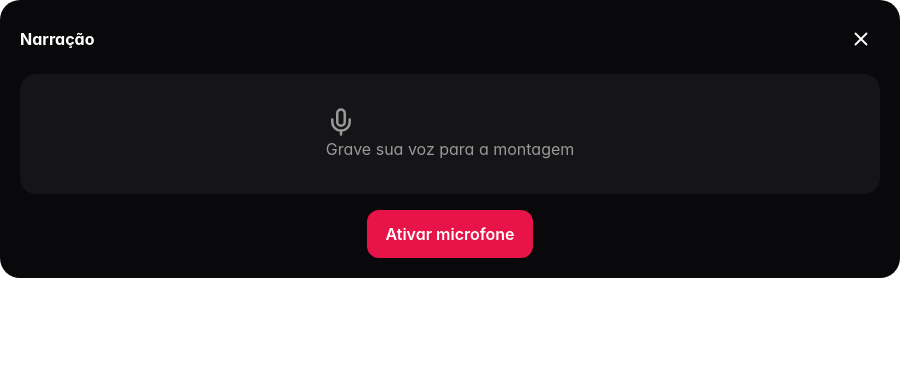
it: StudioRecorder com lifecycle React real › ocultar a aba cancela a pergunta; o trecho interrompido continua disponível para salvar
Later steps or results of the test are not shown.
Click the button "Ativar microfone": (450, 234) [368,210,532,258]
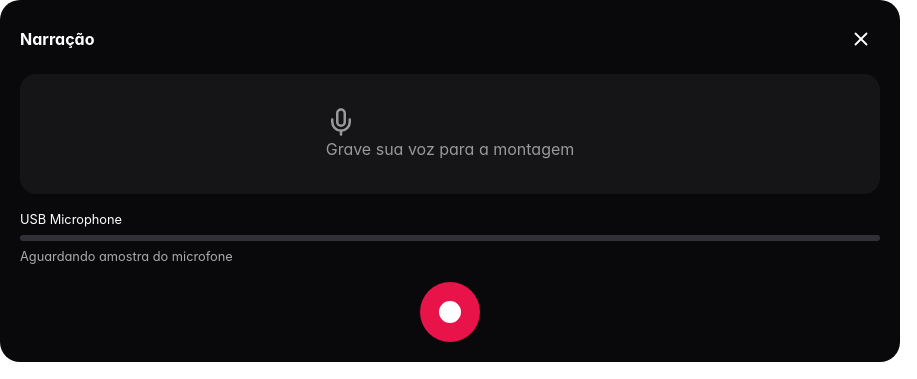
Click the button named "Iniciar gravação": (450, 312) [420,282,480,342]
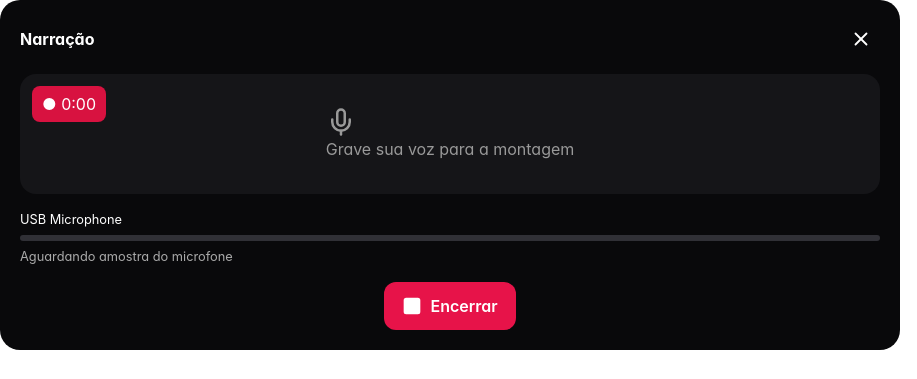
Click the button named "Fechar gravação": (861, 39) [842,20,880,58]
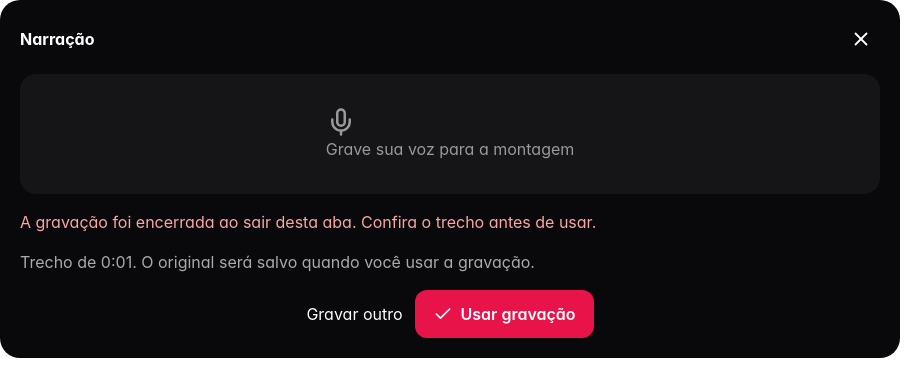
Check: the button "Usar gravação" is shown, box [414,290,594,338]
